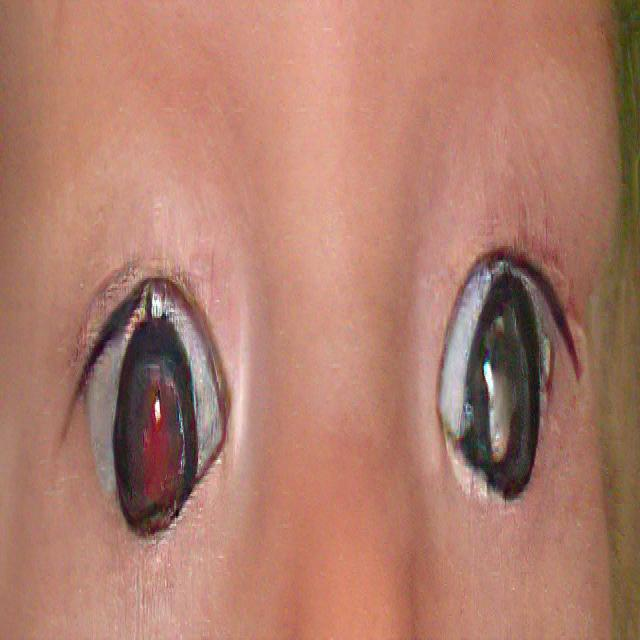reflexo-alterado: (430, 172, 582, 544)
reflexo-normal: (68, 258, 248, 570)
